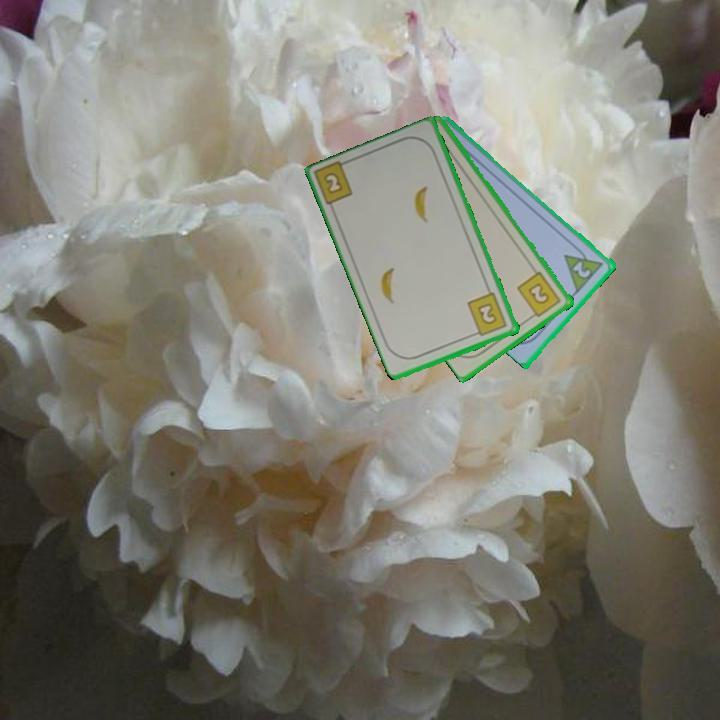2b: (514, 268, 564, 322), (464, 289, 510, 339), (320, 169, 346, 197)
2p: (569, 257, 594, 281)
